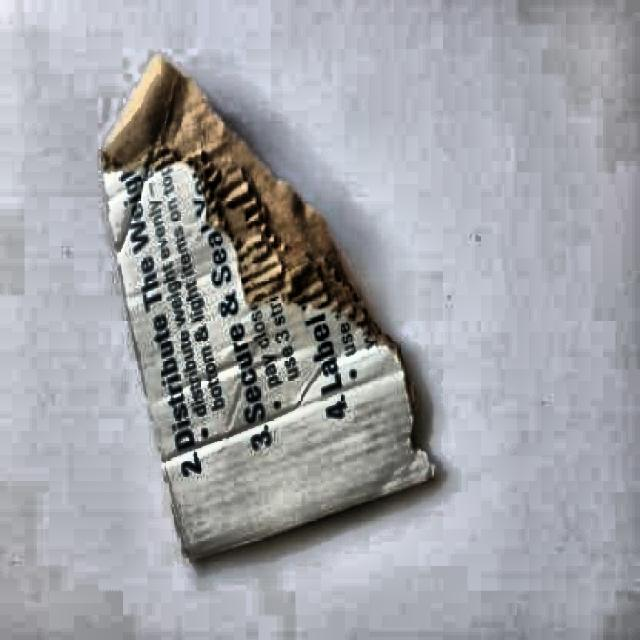Cardbox: (79, 53, 476, 589)
